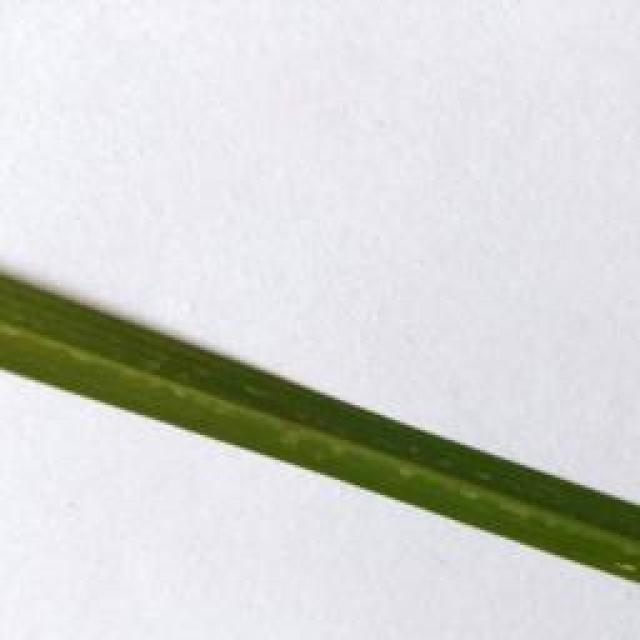Healthy-Plant: (0, 266, 640, 606)
